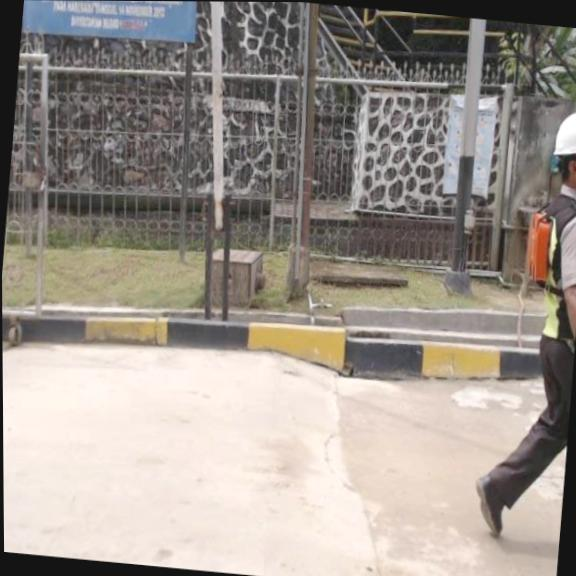safety_vest: (514, 207, 576, 332)
